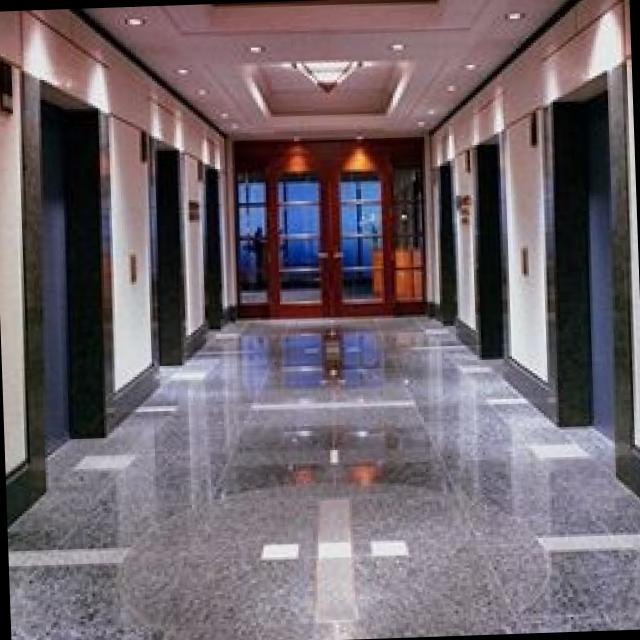ceiling beam: (79, 0, 568, 133)
ceiling lamps: (291, 59, 356, 92)
doors crop: (262, 170, 390, 314)
elevator machine: (35, 97, 66, 455), (583, 90, 612, 442)
floor -X: (7, 311, 640, 640)
